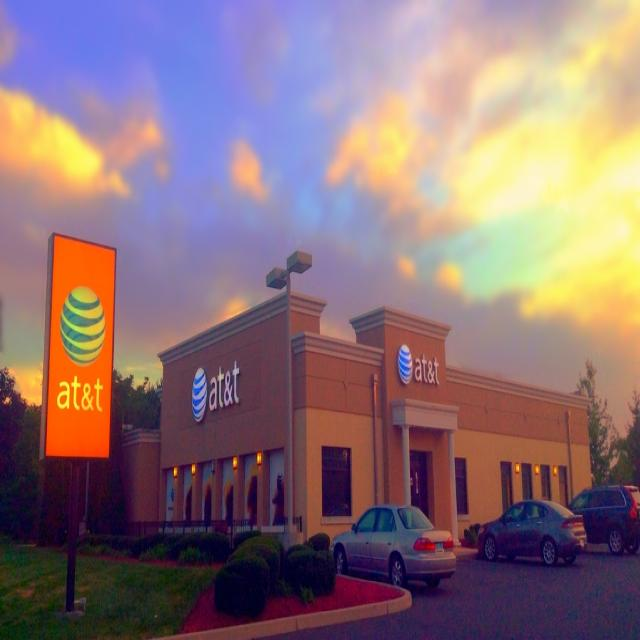car: (477, 495, 586, 567)
